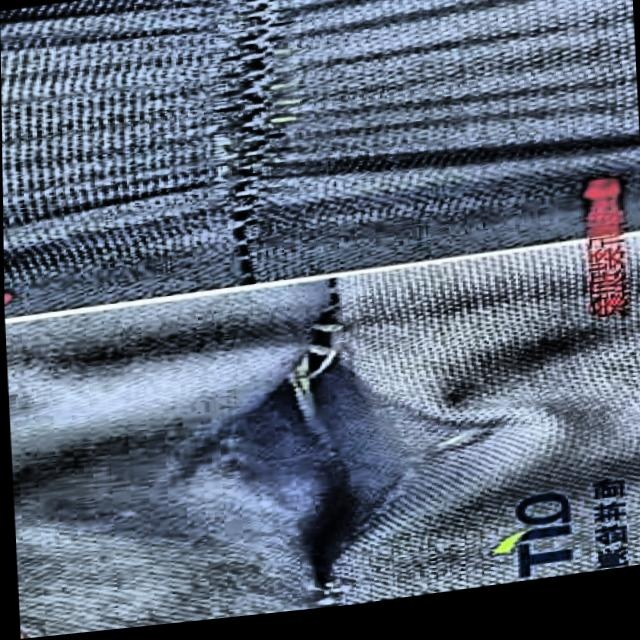seam: (164, 308, 493, 625), (184, 0, 323, 253)
